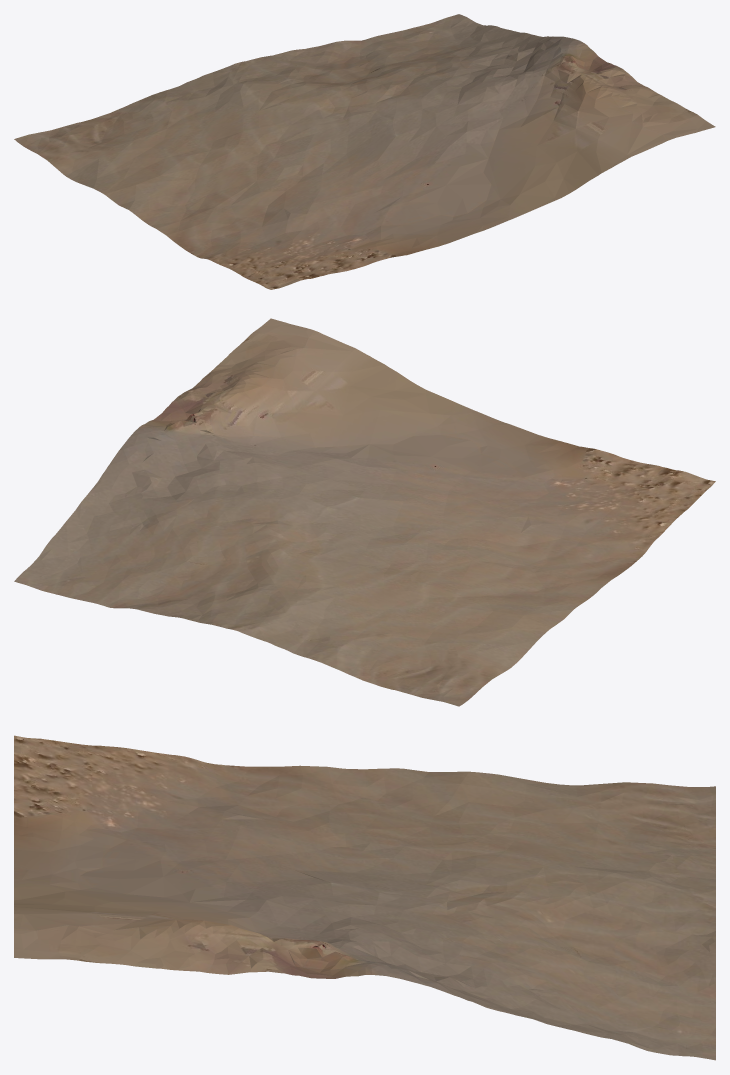
3 views of the same model, one above another, from view 1: azimuth 30°, elevation 25°; view 2: azimuth 150°, elevation 25°; view 3: azimuth 270°, elevation 25° (orthographic). The views are drawn at different scales.
Bounding box in the file's own units: 1.04 × 0.2099 × 1.04.
Materials: 2 (2 with a texture image).
